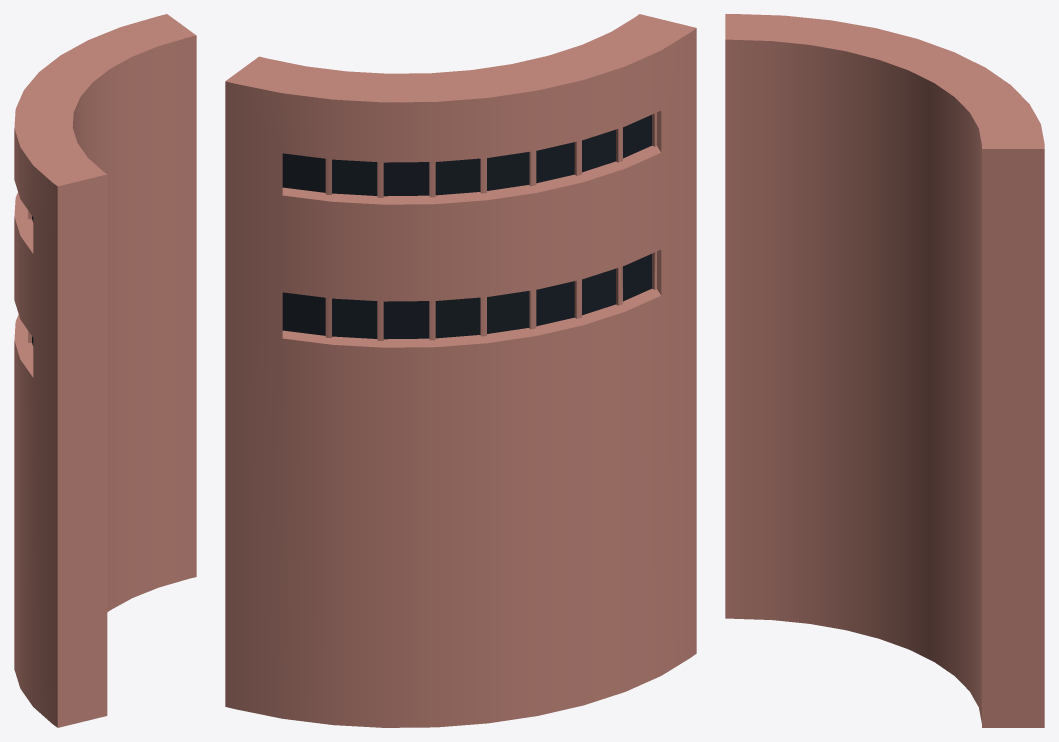
File: BasicWall5x10Windows.fbx
The picture shows the model from 3 angles, left to right: view 1: azimuth 30°, elevation 25°; view 2: azimuth 150°, elevation 25°; view 3: azimuth 270°, elevation 25°; orthographic projection. The views are drawn at different scales.
Parts seen in each view (by area): view 1: BasicWall5x10Windows.001; view 2: BasicWall5x10Windows.001; view 3: BasicWall5x10Windows.001.
Boxes of the visible parts, x1,y1,x2,y2 form: BasicWall5x10Windows.001: (14,14,196,727); BasicWall5x10Windows.001: (225,14,696,727); BasicWall5x10Windows.001: (725,14,1044,727).
Bounding box in the file's own units: 500 × 1000 × 500.
